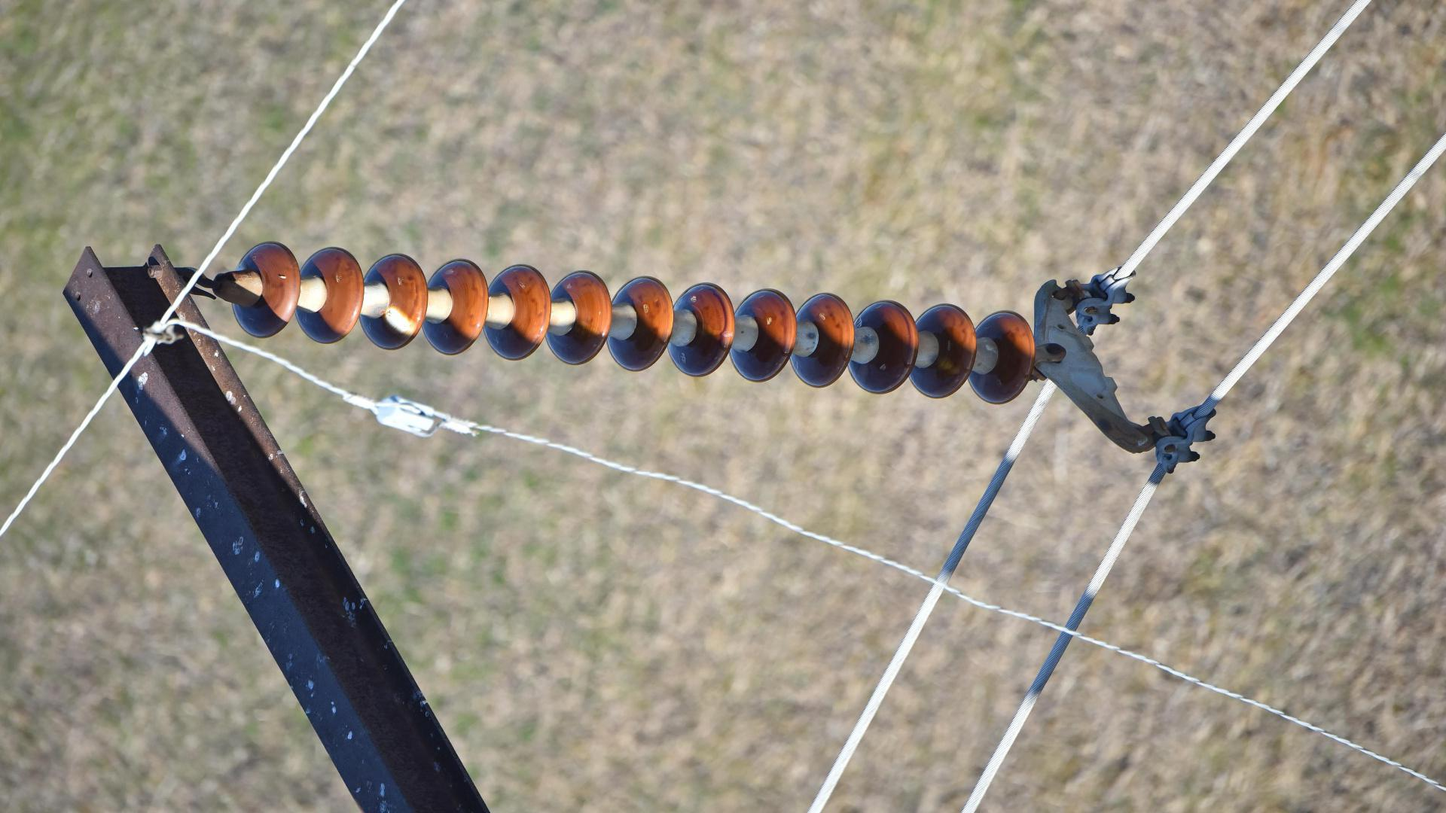insulator: (225, 238, 1041, 410)
insulator_flashover: (383, 303, 419, 338)
